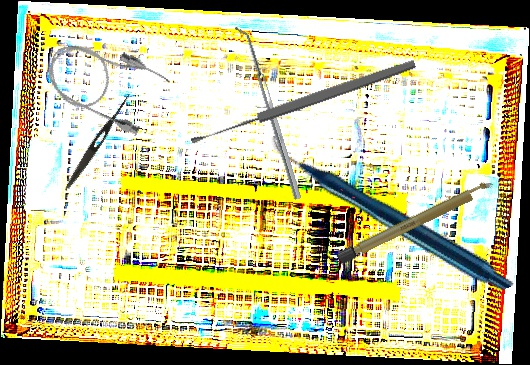Cannula: (37, 26, 173, 140)
Dressing Forceps: (63, 91, 133, 191)
Handpiece: (268, 71, 516, 352)
Scalpel Handle: (334, 177, 498, 266)
Spatula Surgical: (234, 22, 302, 203)
Surgical Spoon: (189, 56, 417, 148)
